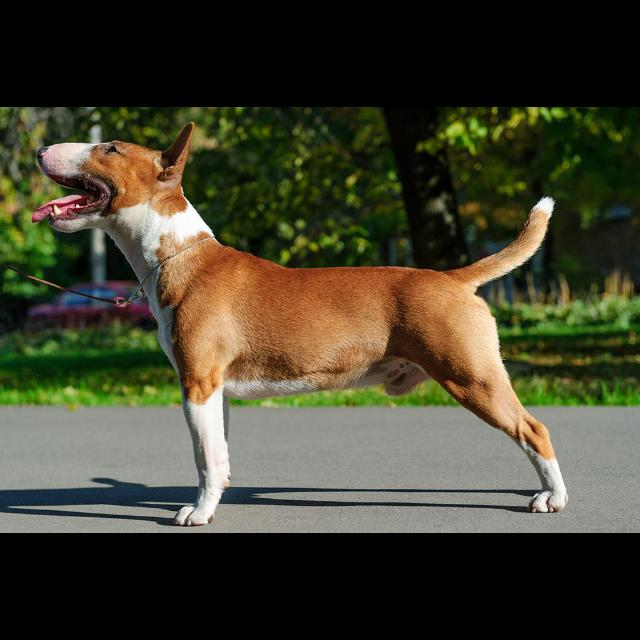bullterrier: (32, 122, 570, 528)
